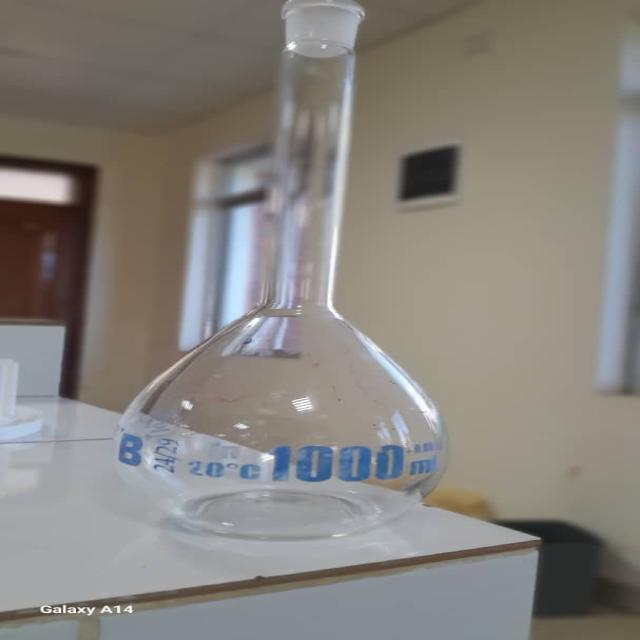Volumetric flask: (104, 1, 461, 546)
